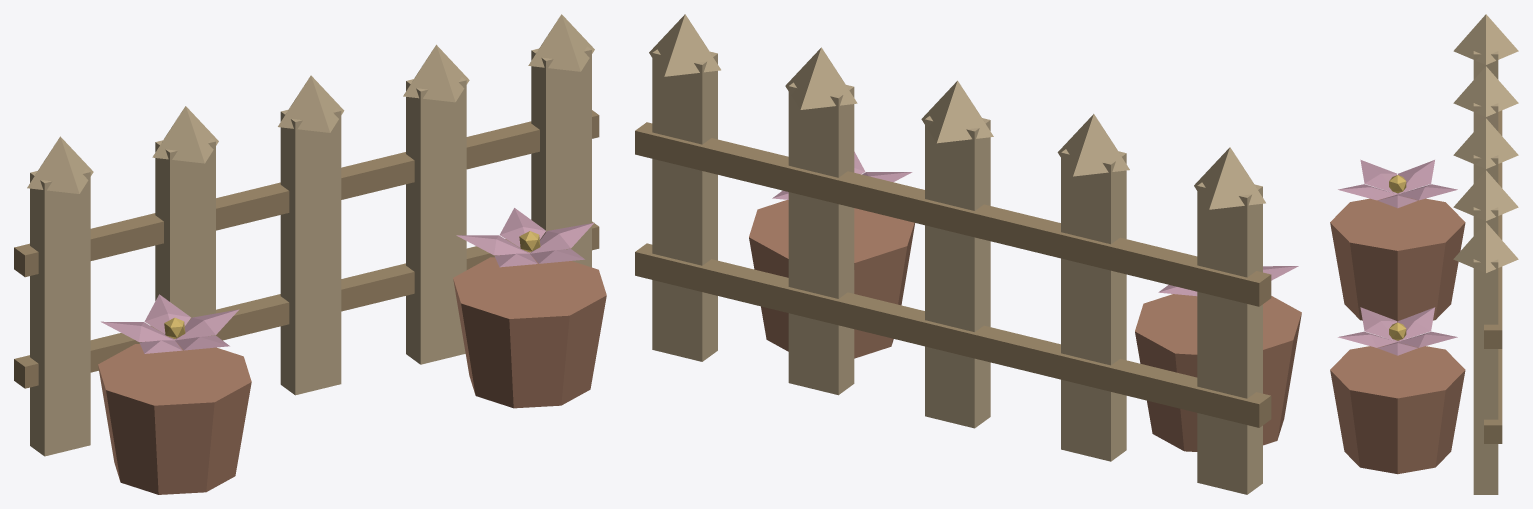
Rendered from map-exclusive-v3__village_16.glb.
3 renders of one model, left to right at view 1: azimuth 30°, elevation 25°; view 2: azimuth 150°, elevation 25°; view 3: azimuth 270°, elevation 25°, orthographic. The views are drawn at different scales.
Visible parts, largest first — view 1: village_16; view 2: village_16; view 3: village_16.
Part boxes in pixels (left/top/right/bottom): village_16: left=14, top=14, right=606, bottom=494; village_16: left=635, top=14, right=1301, bottom=494; village_16: left=1330, top=14, right=1518, bottom=494.
Bounding box in the file's own units: 2.75 × 1.42 × 0.92.
